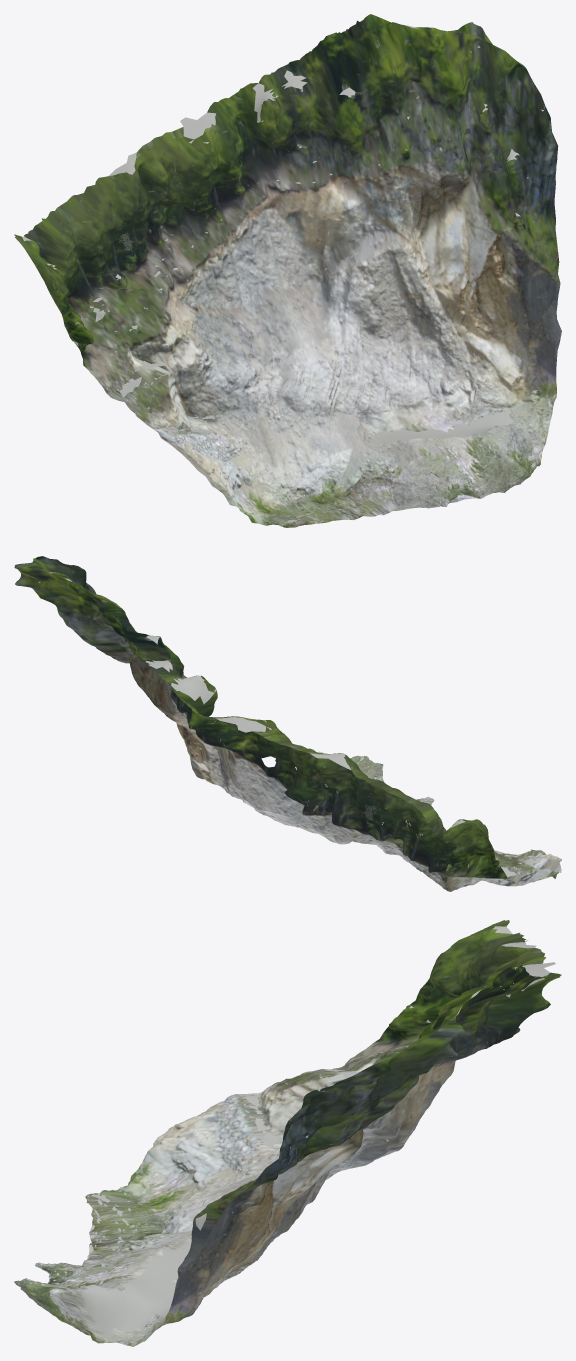
The model's file is mountain_face.glb.
3 views of the same model, one above another, from view 1: azimuth 30°, elevation 25°; view 2: azimuth 150°, elevation 25°; view 3: azimuth 270°, elevation 25° (orthographic). The views are drawn at different scales.
Parts seen in each view (by area): view 1: Object_4, Object_3, Object_5; view 2: Object_4, Object_3, Object_5; view 3: Object_3, Object_4, Object_5.
Part boxes in pixels (x1=…): Object_4: x1=15, y1=14, x2=559, y2=525; Object_3: x1=154, y1=48, x2=561, y2=527; Object_5: x1=14, y1=17, x2=557, y2=527; Object_4: x1=14, y1=558, x2=561, y2=885; Object_3: x1=33, y1=556, x2=561, y2=891; Object_5: x1=15, y1=561, x2=558, y2=884; Object_3: x1=14, y1=1048, x2=431, y2=1346; Object_4: x1=38, y1=920, x2=561, y2=1343; Object_5: x1=19, y1=920, x2=555, y2=1343.
Size of the model in its own units: 2.52 by 1.74 by 2.22.
Materials: 1 (1 with a texture image).
